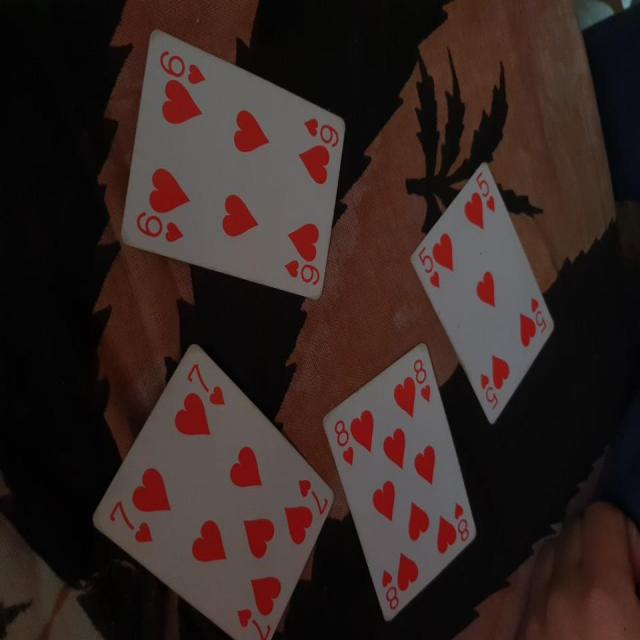5 Hearts: (412, 152, 557, 429)
6 Hearts: (118, 22, 355, 300)
7 Hearts: (88, 340, 337, 633)
8 Hearts: (331, 334, 482, 628)
